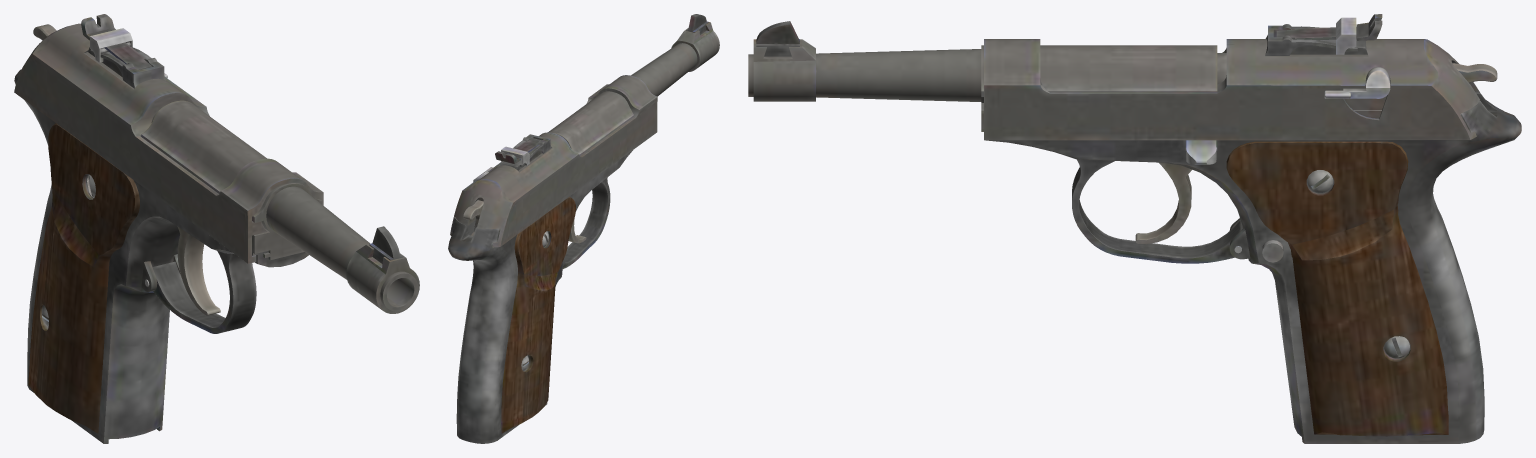
The model's file is pistola.glb.
3 views of the same model, side by side, from view 1: azimuth 30°, elevation 25°; view 2: azimuth 150°, elevation 25°; view 3: azimuth 270°, elevation 25° (orthographic). The views are drawn at different scales.
Visible parts, largest first — view 1: Malha; view 2: Malha; view 3: Malha.
Part boxes in pixels (x1=…): Malha: x1=14, y1=14, x2=419, y2=443; Malha: x1=448, y1=14, x2=719, y2=443; Malha: x1=748, y1=14, x2=1521, y2=443.
Size of the model in its own units: 0.0301 by 0.1225 by 0.21.
1 material, 1 textured.
